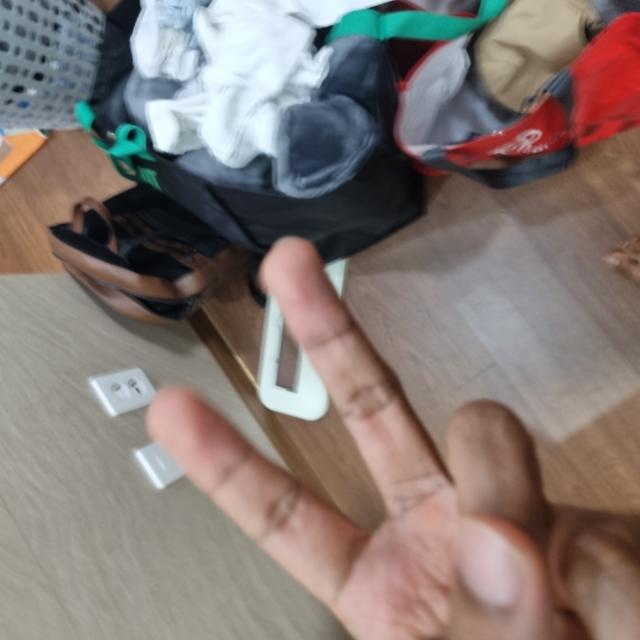Scissors: (0, 152, 405, 639)
